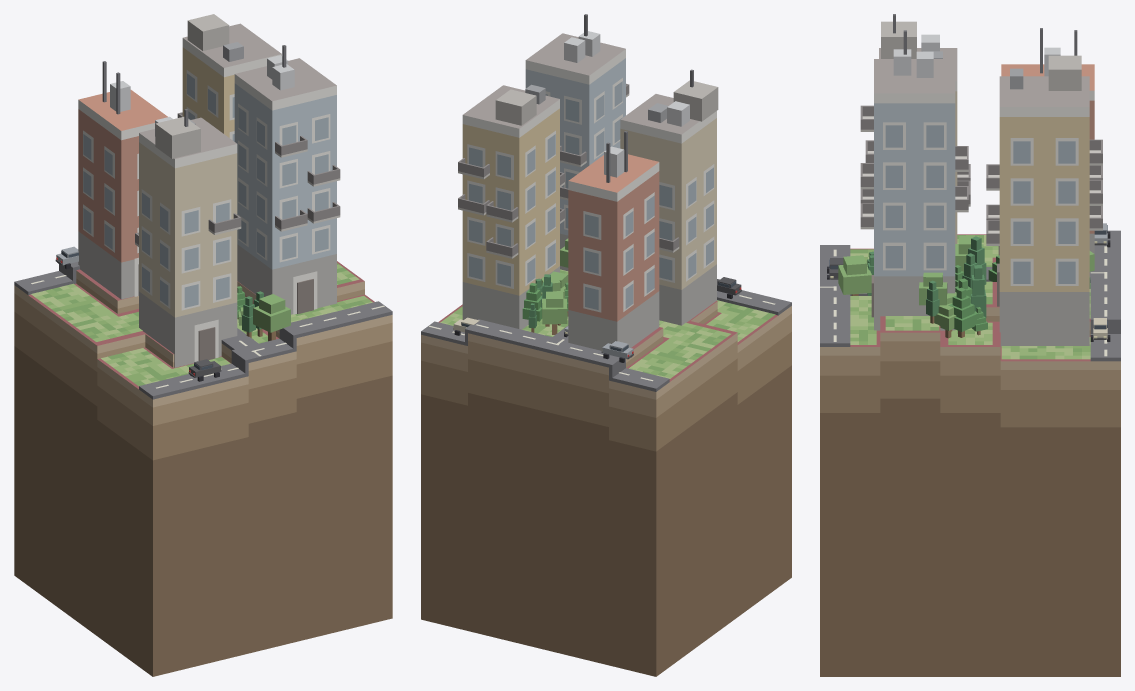
Rendered from block_24_leakingdam_0.glb.
3 views of the same model, side by side, from view 1: azimuth 30°, elevation 25°; view 2: azimuth 150°, elevation 25°; view 3: azimuth 270°, elevation 25° (orthographic). The views are drawn at different scales.
Visible parts, largest first — view 1: Patch_UpperRight_b24_LD, ResidBldgs_b24_LD, Green_UpperRight_b24_LD, Roads_UpperRight_b24_LD, URTree_24_17_LD; view 2: Patch_UpperRight_b24_LD, ResidBldgs_b24_LD, Roads_UpperRight_b24_LD, Green_UpperRight_b24_LD, URTree_24_0_LD; view 3: Patch_UpperRight_b24_LD, ResidBldgs_b24_LD, Roads_UpperRight_b24_LD, Green_UpperRight_b24_LD, URTree_24_17_LD, URTree_24_28_LD, URTree_24_25_LD, URTree_24_19_LD, URTree_24_20_LD.
Part boxes in pixels (x1,y1,x2,y2): Patch_UpperRight_b24_LD: [14, 261, 392, 676]; ResidBldgs_b24_LD: [78, 14, 340, 367]; Green_UpperRight_b24_LD: [31, 263, 372, 386]; Roads_UpperRight_b24_LD: [14, 262, 392, 399]; URTree_24_17_LD: [253, 294, 290, 341]; Patch_UpperRight_b24_LD: [421, 301, 791, 676]; ResidBldgs_b24_LD: [458, 14, 718, 350]; Roads_UpperRight_b24_LD: [421, 290, 791, 391]; Green_UpperRight_b24_LD: [440, 269, 775, 378]; URTree_24_0_LD: [542, 291, 567, 334]; Patch_UpperRight_b24_LD: [820, 234, 1120, 676]; ResidBldgs_b24_LD: [860, 14, 1102, 346]; Roads_UpperRight_b24_LD: [820, 230, 1120, 361]; Green_UpperRight_b24_LD: [850, 235, 1090, 359]; URTree_24_17_LD: [838, 255, 871, 295]; URTree_24_28_LD: [948, 287, 978, 337]; URTree_24_25_LD: [919, 272, 947, 305]; URTree_24_19_LD: [971, 265, 986, 317]; URTree_24_20_LD: [934, 303, 956, 338].
Bounding box in the file's own units: 9.5 × 21.24 × 9.5.
